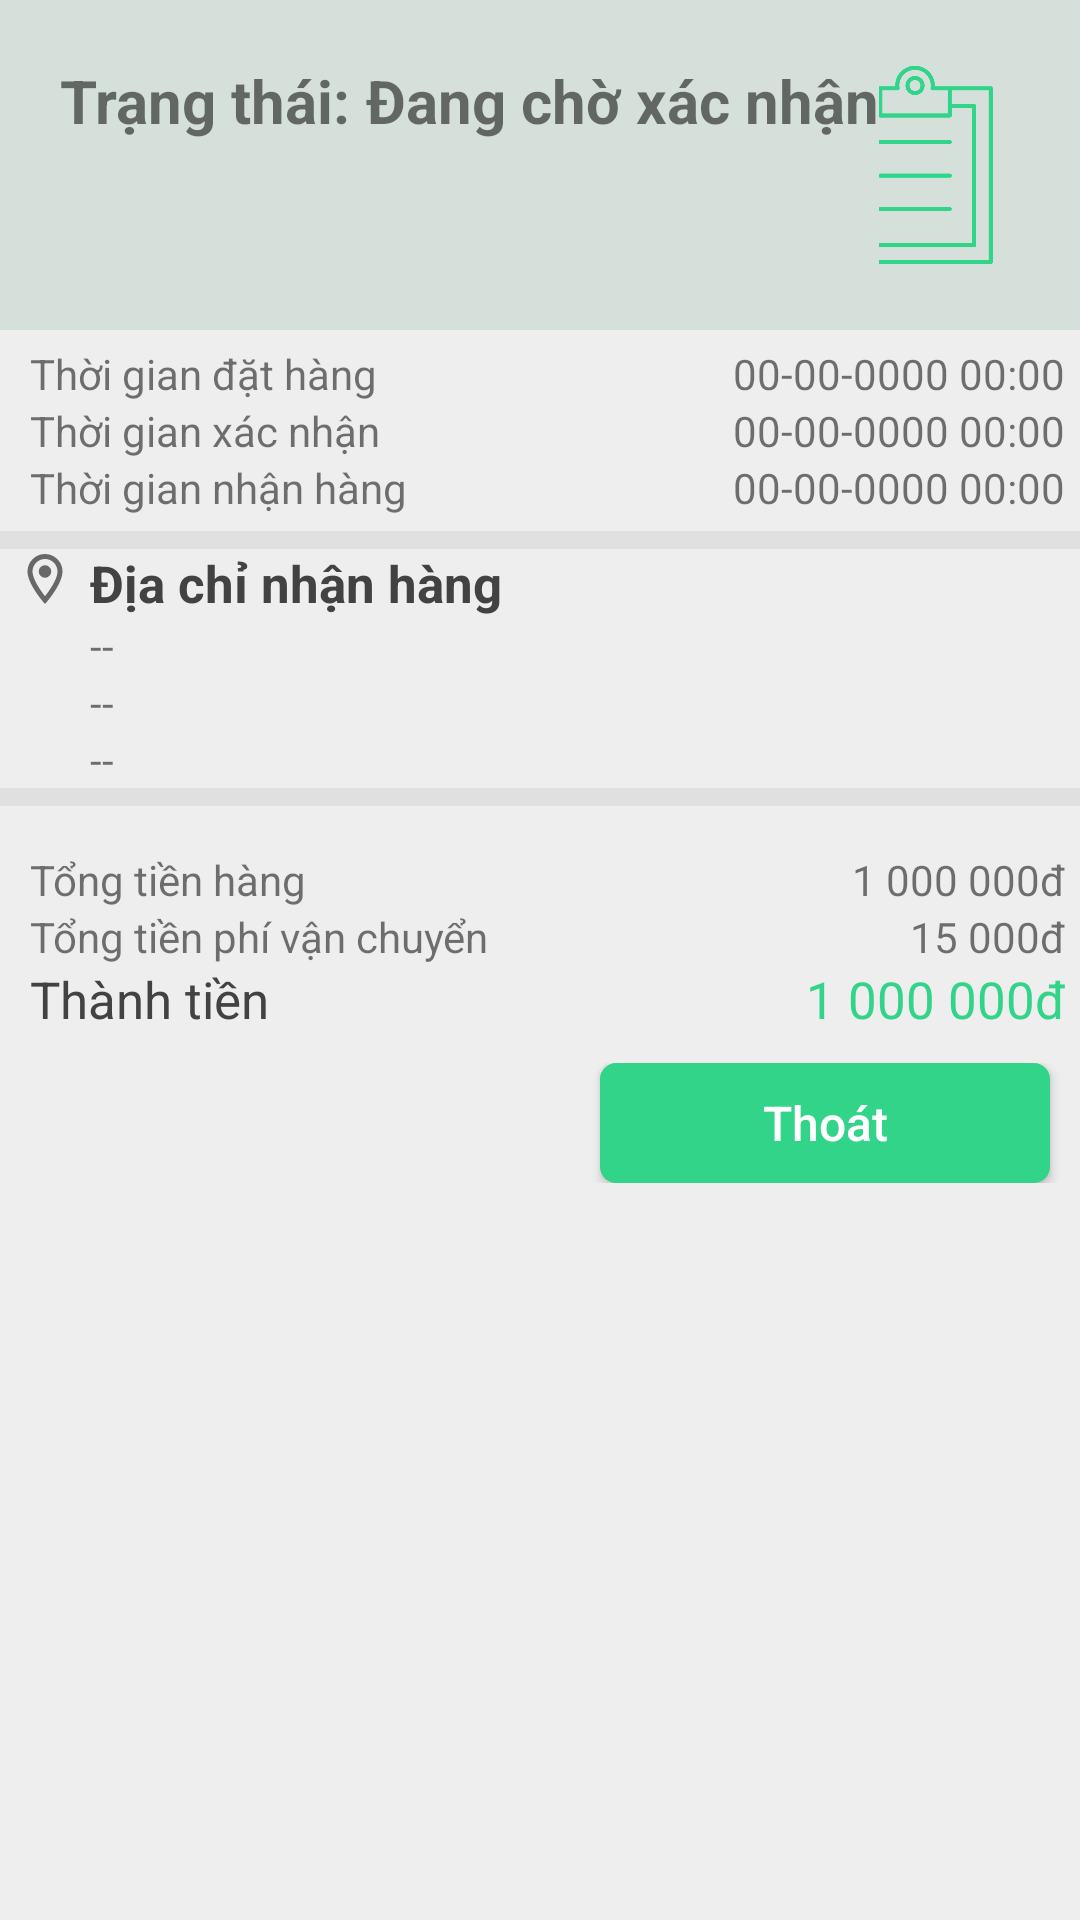

Named icons in this screenshot (1080 x 1920) and their centers, point (x, y):
location: point (45, 579)
